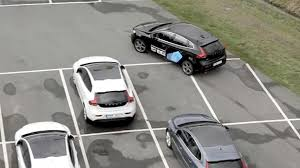car: (130, 19, 227, 75), (69, 55, 138, 123), (166, 111, 248, 168), (14, 121, 80, 168)
